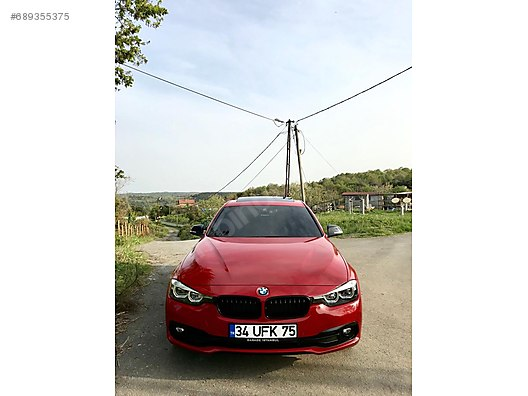b: (162, 195, 365, 361)
